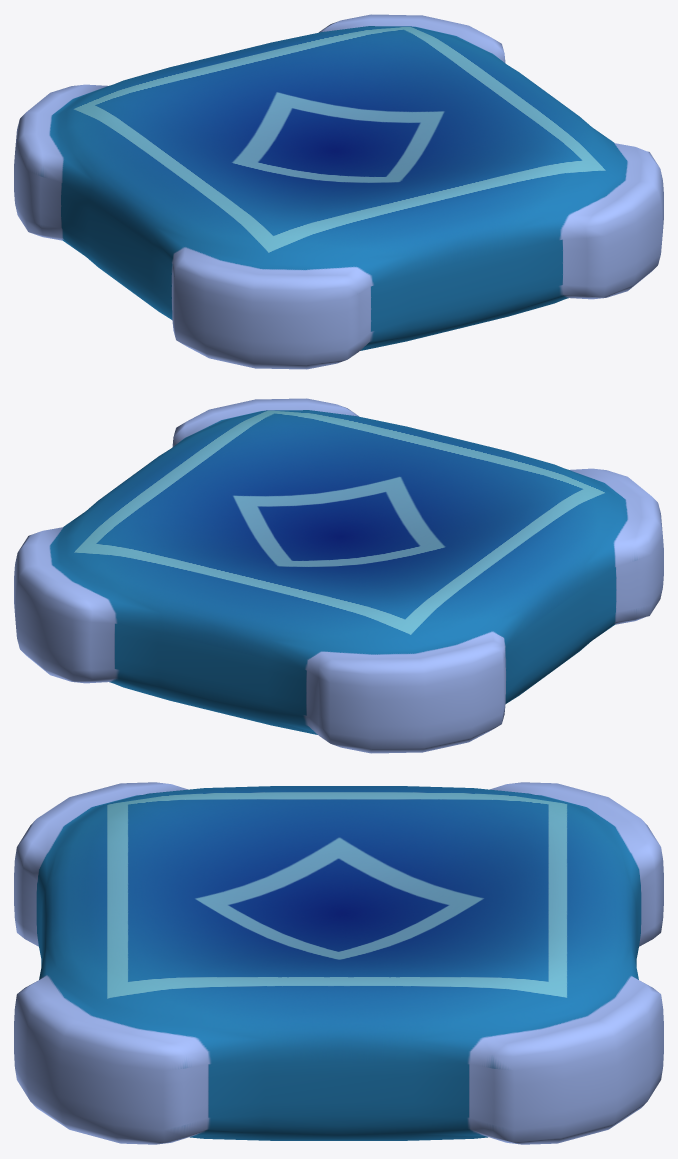
File: moving_platform.fbx
The picture shows the model from 3 angles, top to bottom: view 1: azimuth 30°, elevation 25°; view 2: azimuth 150°, elevation 25°; view 3: azimuth 270°, elevation 25°; orthographic projection. The views are drawn at different scales.
Visible parts, largest first — view 1: pCube1; view 2: pCube1; view 3: pCube1.
Boxes of the visible parts, <box> form: pCube1: <box>14,14,663,369</box>; pCube1: <box>14,398,663,753</box>; pCube1: <box>14,782,663,1144</box>.
Bounding box in the file's own units: 10.92 × 2.79 × 10.92.
1 material, 1 textured.
